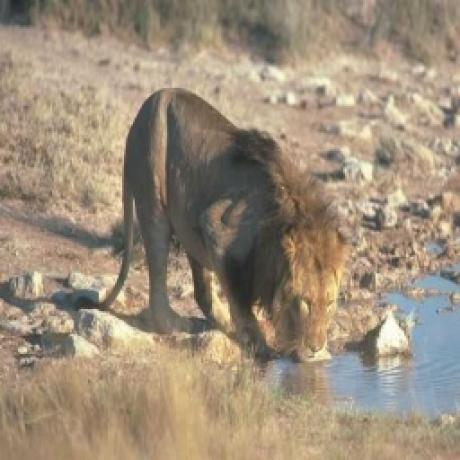Lion: (98, 77, 342, 370)
